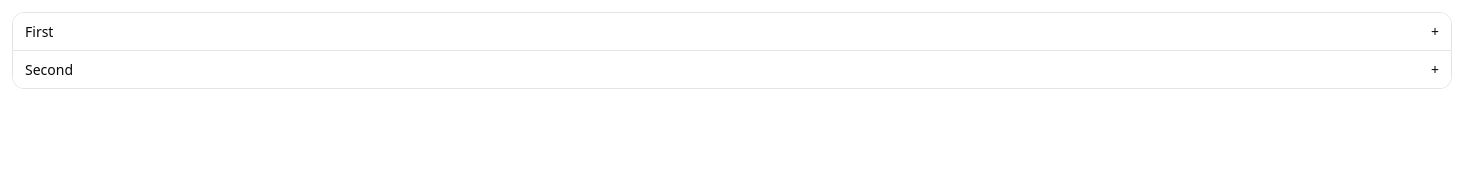
Scenario: Accordion › edge cases - boundary conditions › handles items with duplicate IDs
Click the button "First +": (39,32) [13,13,1451,50]
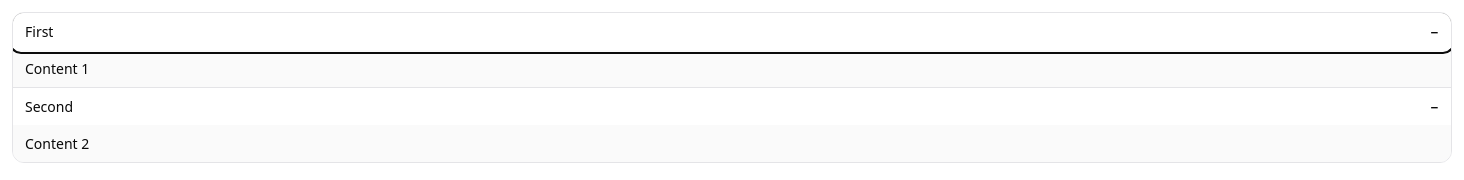
Expected: the text "Content 1" is shown, [13,50,1451,87]
Expected: the text "Content 2" is shown, [13,125,1451,162]
